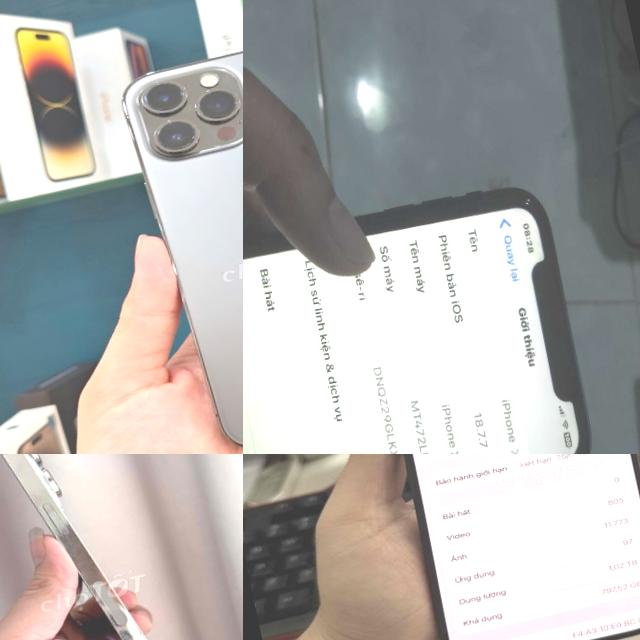gen_12_13: (110, 12, 243, 454)
gen_14: (0, 454, 206, 640)
gen_16: (405, 454, 640, 640)
gen_x_xs: (243, 169, 606, 454)
